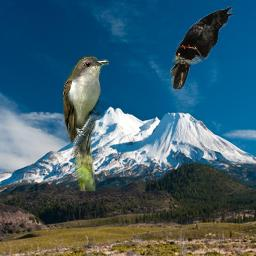Crow: (169, 5, 235, 89)
Cuckoo: (63, 52, 109, 191)
